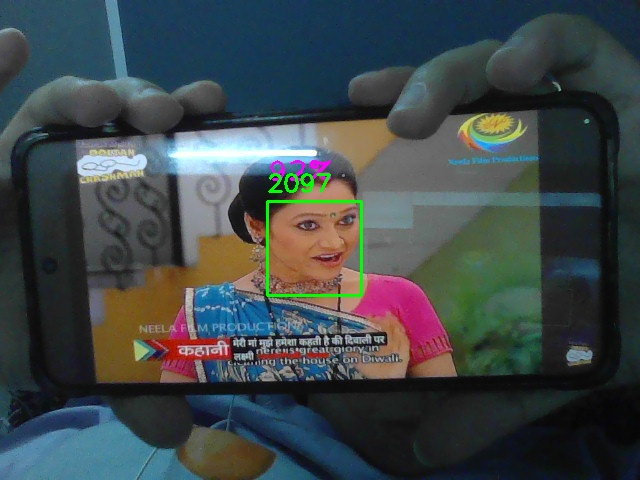fake: (267, 201, 362, 296)
